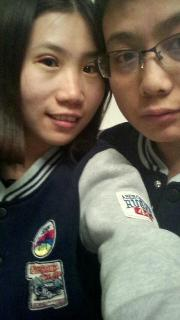long sleeve top: (0, 128, 180, 320)
